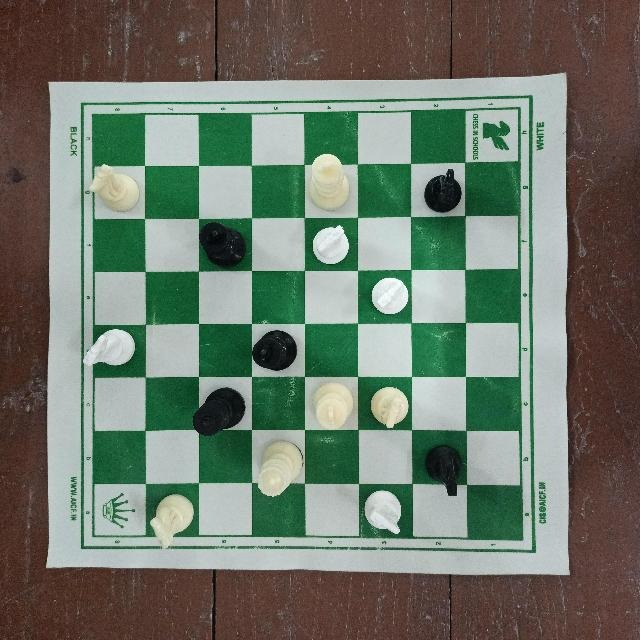black-king: (190, 377, 248, 442), (252, 324, 300, 376), (196, 219, 247, 266)
black-knight: (420, 436, 468, 500), (415, 160, 463, 216)
white-king: (301, 152, 354, 212), (305, 380, 359, 434)
white-knight: (144, 492, 194, 550), (77, 329, 142, 373), (86, 165, 142, 215), (363, 483, 411, 535), (367, 380, 413, 434), (367, 271, 413, 321), (311, 225, 355, 269)
white-queen: (250, 434, 304, 500)
